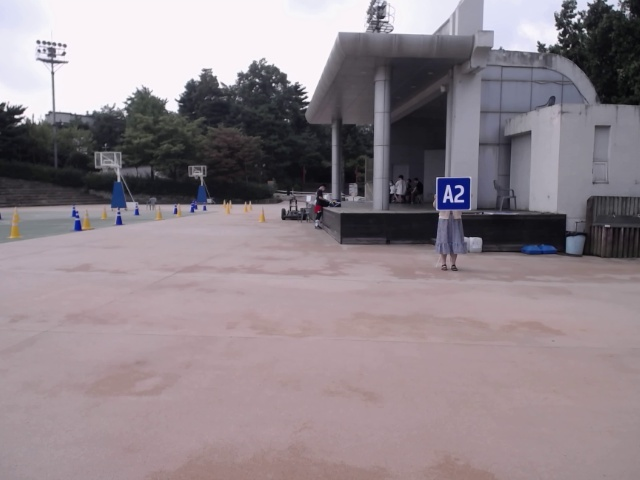delivery_a2: (437, 177, 471, 211)
